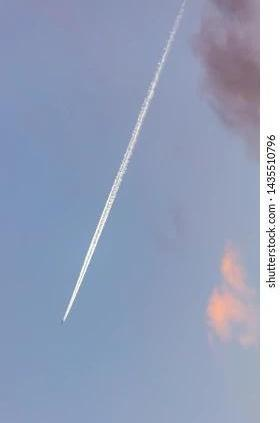Plane: (52, 129, 133, 333)
